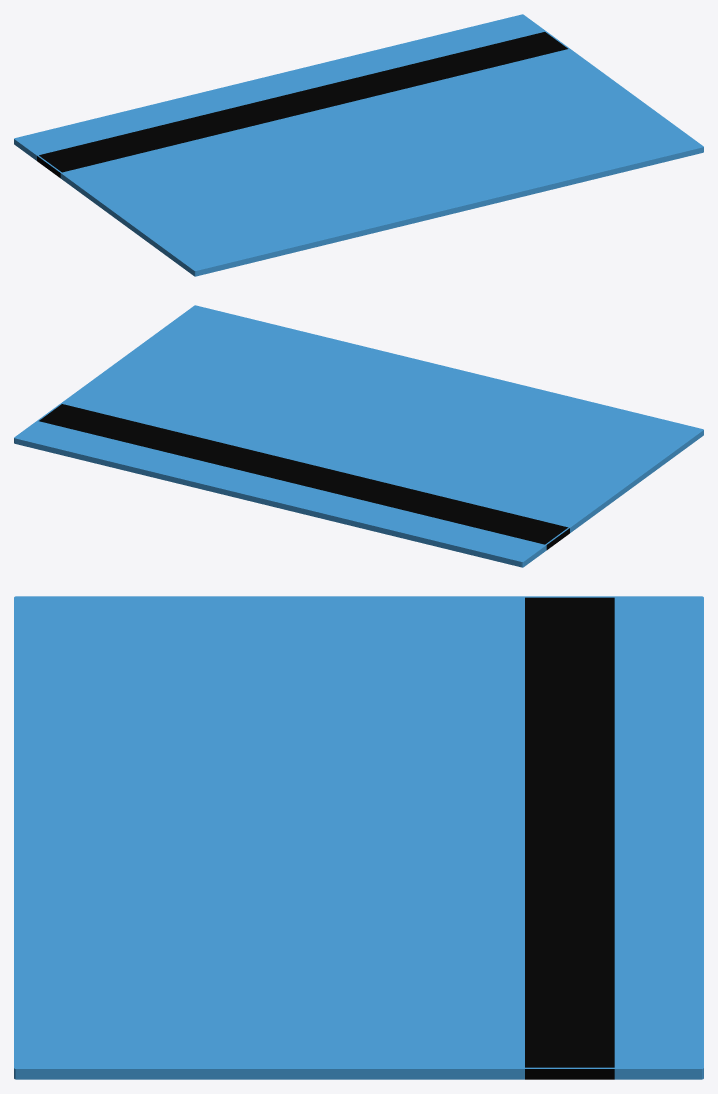
Rendered from card.fbx.
3 views of the same model, one above another, from view 1: azimuth 30°, elevation 25°; view 2: azimuth 150°, elevation 25°; view 3: azimuth 270°, elevation 25° (orthographic). The views are drawn at different scales.
Visible parts, largest first — view 1: Cube; view 2: Cube; view 3: Cube.
Boxes of the visible parts, x1,y1,x2,y2 form: Cube: (14, 14, 703, 276); Cube: (14, 305, 703, 567); Cube: (14, 596, 703, 1079).
Size of the model in its own units: 1909 by 19.85 by 1178.
